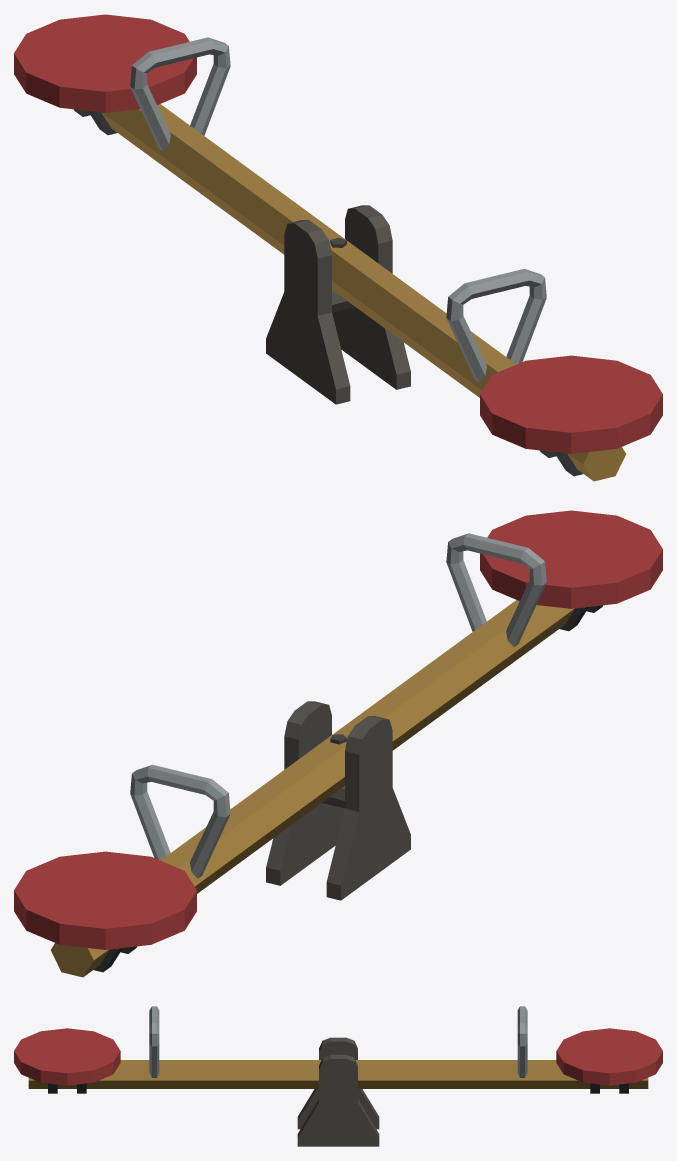
File: SM_Props_City_PlayGround_Equipment_SeeSaw.fbx
3 views of the same model, one above another, from view 1: azimuth 30°, elevation 25°; view 2: azimuth 150°, elevation 25°; view 3: azimuth 270°, elevation 25° (orthographic). The views are drawn at different scales.
Visible parts, largest first — view 1: SM_Props_City_PlayGround_Equipment_SeeSaw; view 2: SM_Props_City_PlayGround_Equipment_SeeSaw; view 3: SM_Props_City_PlayGround_Equipment_SeeSaw.
Part boxes in pixels (box(x1,y1,x2,y2)): SM_Props_City_PlayGround_Equipment_SeeSaw: box(14, 14, 662, 481); SM_Props_City_PlayGround_Equipment_SeeSaw: box(14, 510, 662, 977); SM_Props_City_PlayGround_Equipment_SeeSaw: box(14, 1006, 662, 1146).
Size of the model in its own units: 77 by 96.57 by 469.
